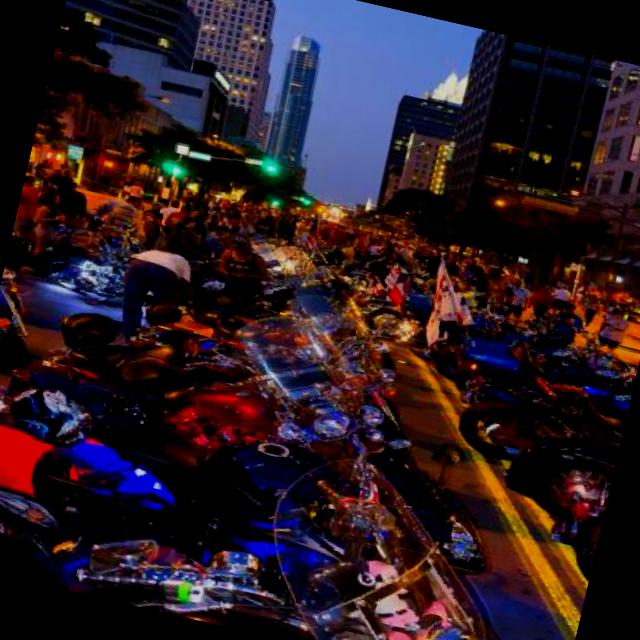Person: (12, 151, 628, 374), (108, 240, 199, 352), (210, 230, 278, 306), (25, 189, 73, 259), (49, 175, 92, 232), (130, 198, 168, 252), (166, 214, 207, 263), (546, 299, 588, 344), (594, 306, 632, 354), (524, 282, 554, 320), (576, 292, 605, 330), (548, 281, 576, 316), (164, 202, 193, 232), (227, 212, 243, 234)
